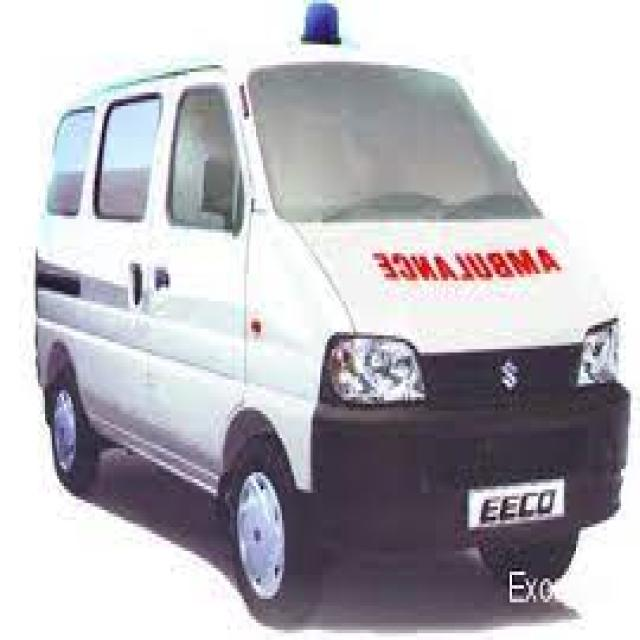ambulance: (33, 18, 601, 596)
